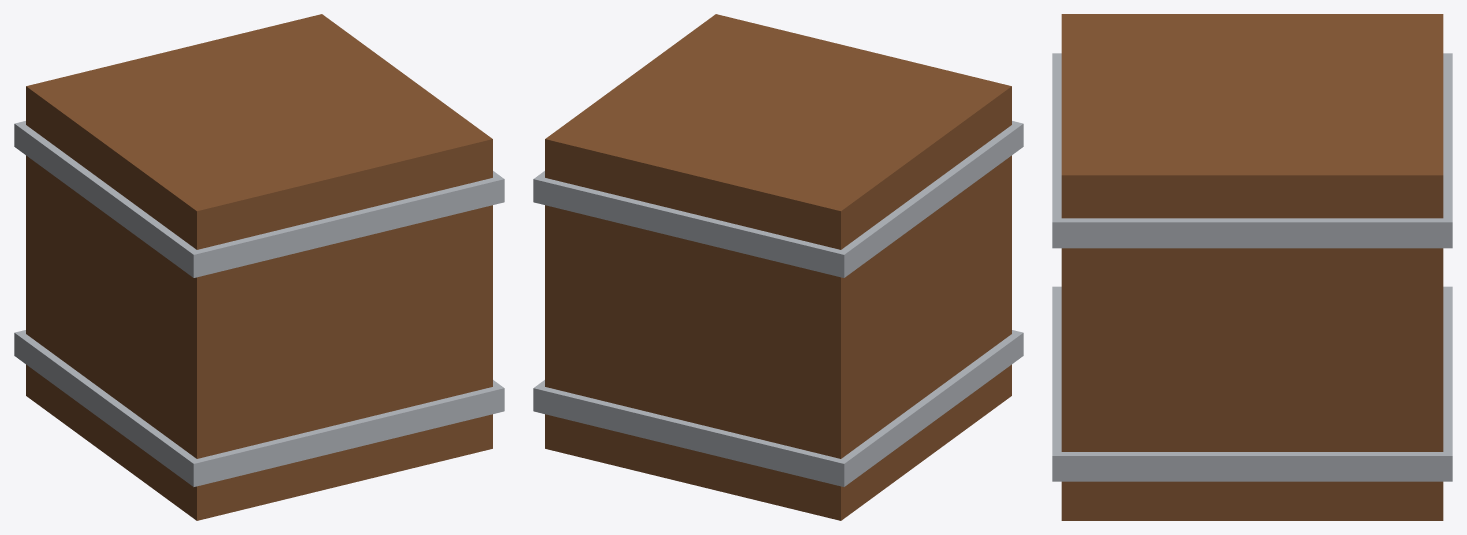
Rendered from crate.glb.
3 views of the same model, side by side, from view 1: azimuth 30°, elevation 25°; view 2: azimuth 150°, elevation 25°; view 3: azimuth 270°, elevation 25° (orthographic). The views are drawn at different scales.
Parts seen in each view (by area): view 1: crate; view 2: crate; view 3: crate.
Boxes of the visible parts, x1,y1,x2,y2 form: crate: [14, 14, 504, 520]; crate: [533, 14, 1023, 520]; crate: [1052, 14, 1452, 520].
Size of the model in its own units: 0.84 by 0.8 by 0.84.
